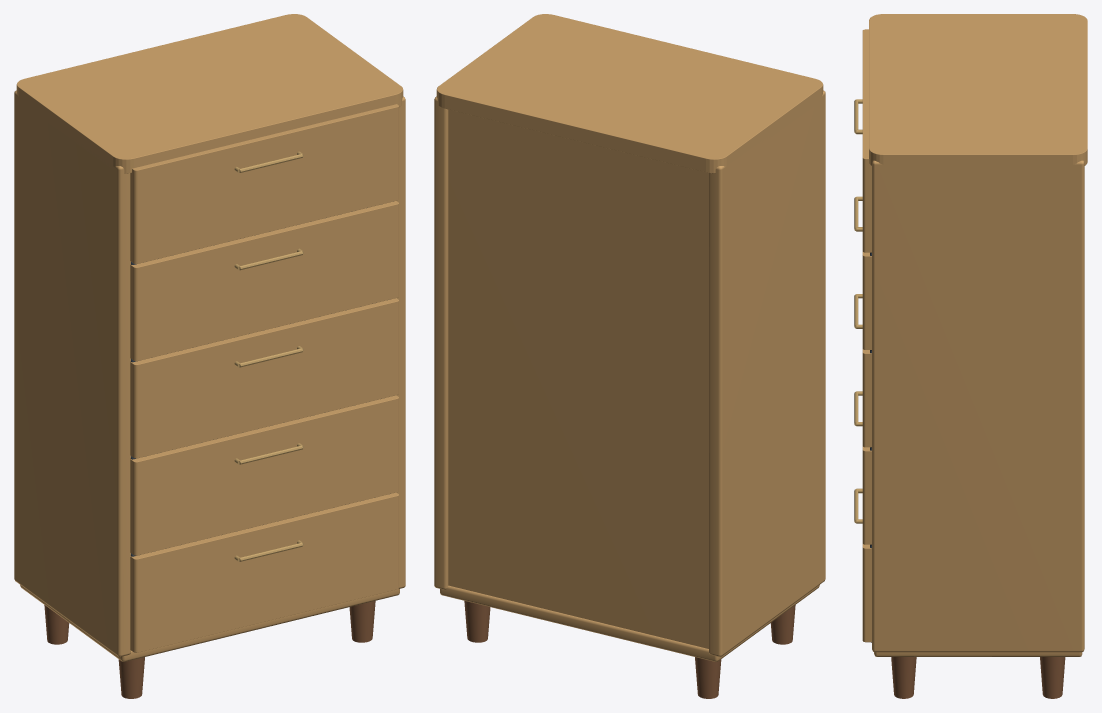
The model's file is designed-dresser-tall.glb.
The picture shows the model from 3 angles, left to right: view 1: azimuth 30°, elevation 25°; view 2: azimuth 150°, elevation 25°; view 3: azimuth 270°, elevation 25°; orthographic projection.
Parts seen in each view (by area): view 1: catalog_surface_RealismUV; view 2: catalog_surface_RealismUV; view 3: catalog_surface_RealismUV.
Boxes of the visible parts, x1,y1,x2,y2 form: catalog_surface_RealismUV: [14, 14, 405, 698]; catalog_surface_RealismUV: [434, 14, 825, 698]; catalog_surface_RealismUV: [854, 14, 1087, 698].
Bounding box in the file's own units: 0.6 × 1.1 × 0.42.
